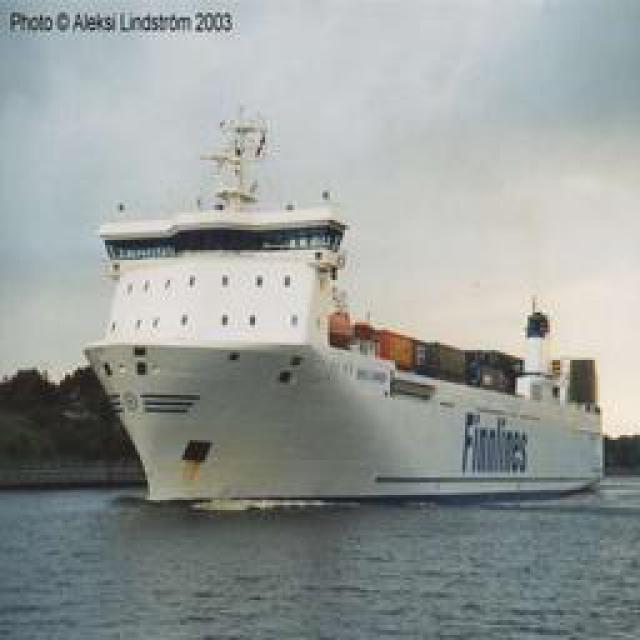Ship: (90, 191, 608, 504)
